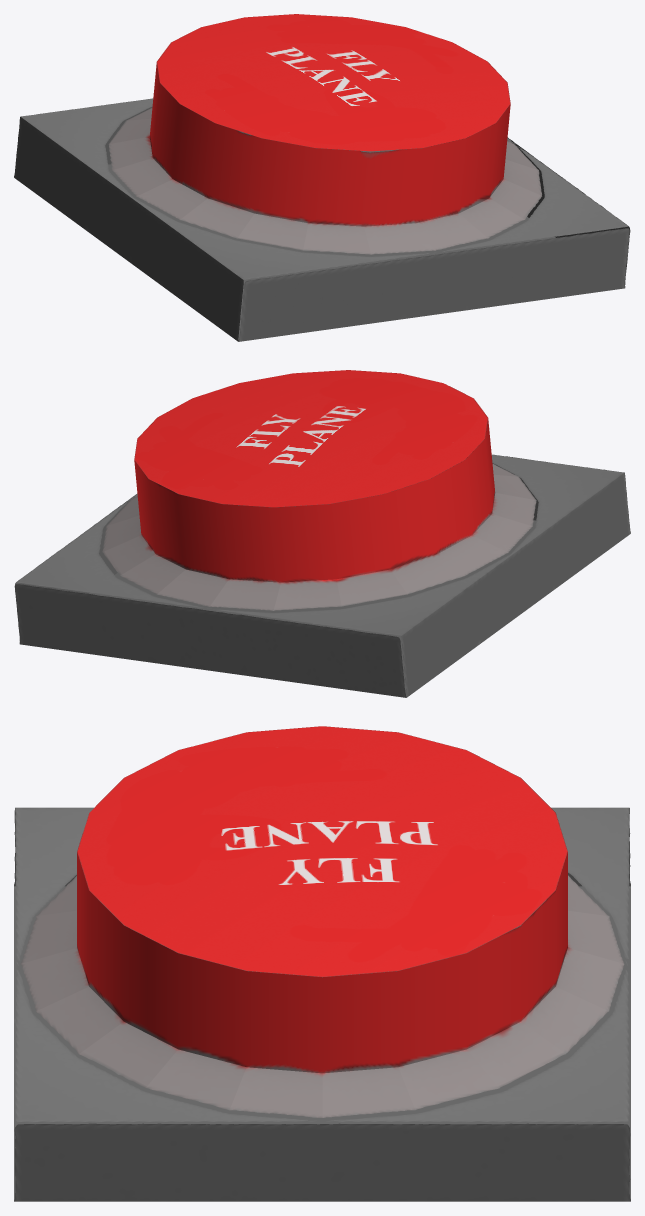
File: FlyButton.fbx
3 views of the same model, one above another, from view 1: azimuth 30°, elevation 25°; view 2: azimuth 150°, elevation 25°; view 3: azimuth 270°, elevation 25° (orthographic). The views are drawn at different scales.
Parts seen in each view (by area): view 1: pCube16; view 2: pCube16; view 3: pCube16.
Part boxes in pixels (left/top/right/bottom): pCube16: left=14, top=14, right=630, bottom=341; pCube16: left=14, top=370, right=630, bottom=697; pCube16: left=14, top=726, right=630, bottom=1201.
Bounding box in the file's own units: 0.4113 × 0.1837 × 0.4073.
